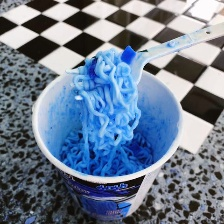paper_cup: (26, 55, 189, 223)
